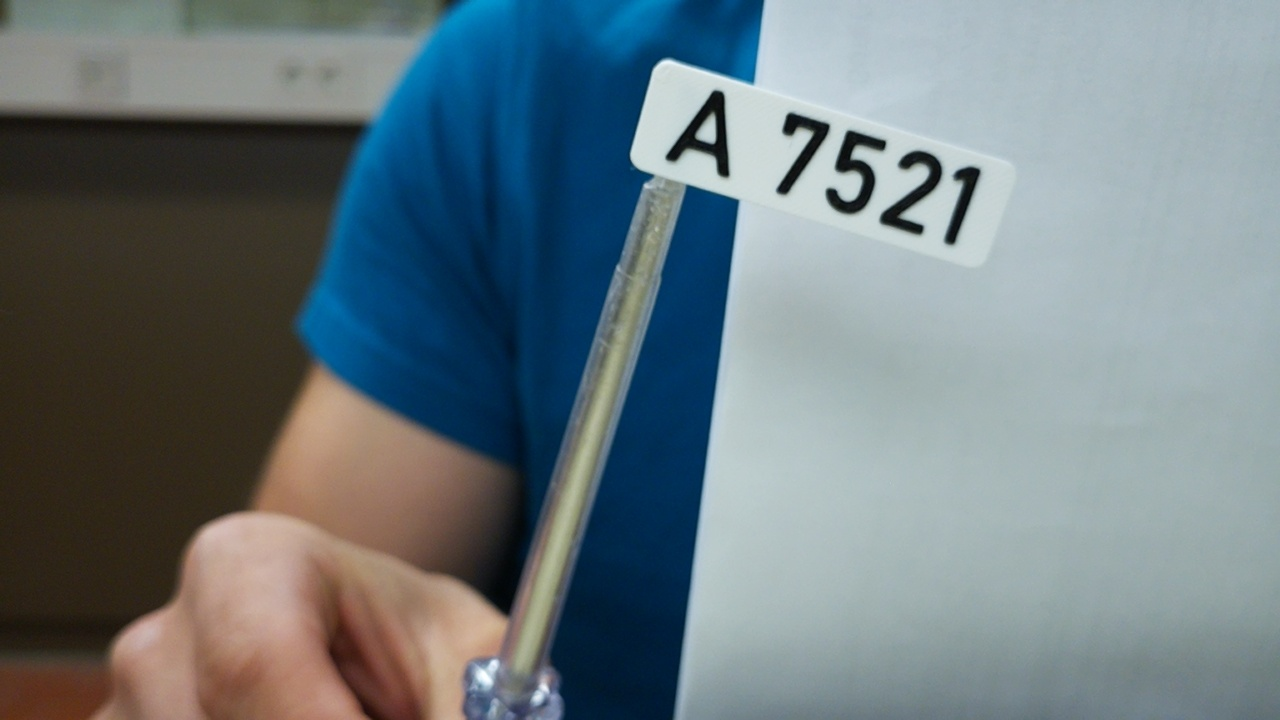license_plate: (625, 51, 1021, 279)
